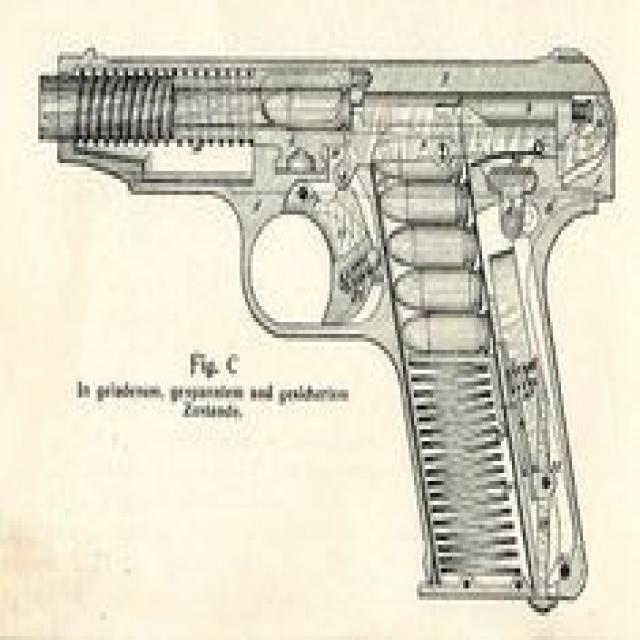semi automatic: (37, 51, 608, 618)
